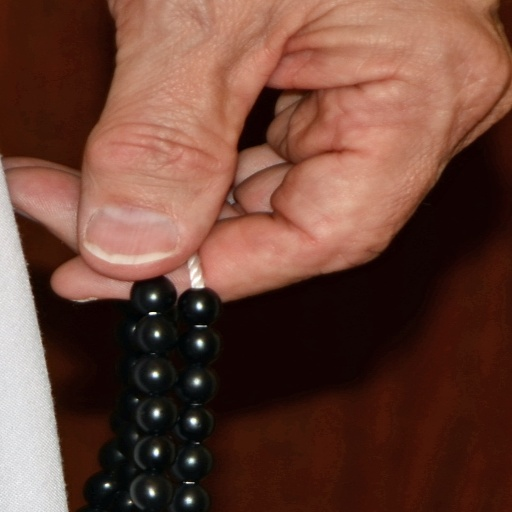hand: (0, 0, 510, 303)
